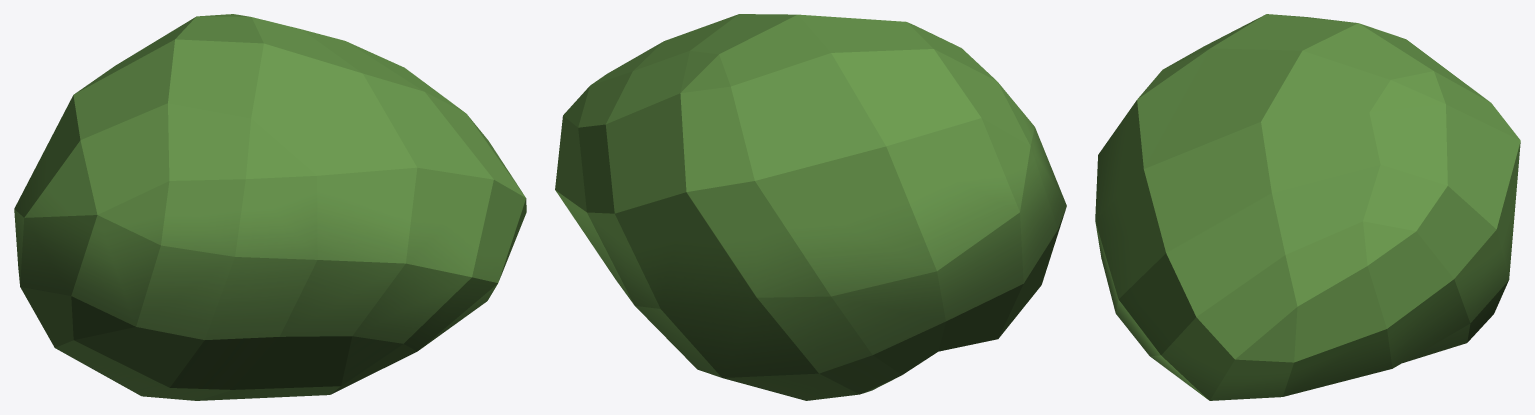
Rendered from Birch-Bush-07.fbx.
3 views of the same model, side by side, from view 1: azimuth 30°, elevation 25°; view 2: azimuth 150°, elevation 25°; view 3: azimuth 270°, elevation 25° (orthographic). The views are drawn at different scales.
Visible parts, largest first — view 1: Birch-Bush-07; view 2: Birch-Bush-07; view 3: Birch-Bush-07.
Boxes of the visible parts, x1=… form: Birch-Bush-07: x1=14, y1=14, x2=526, y2=400; Birch-Bush-07: x1=555, y1=14, x2=1066, y2=400; Birch-Bush-07: x1=1095, y1=14, x2=1520, y2=400.
Size of the model in its own units: 419 by 269 by 338.
Materials: 1 (1 with a texture image).
